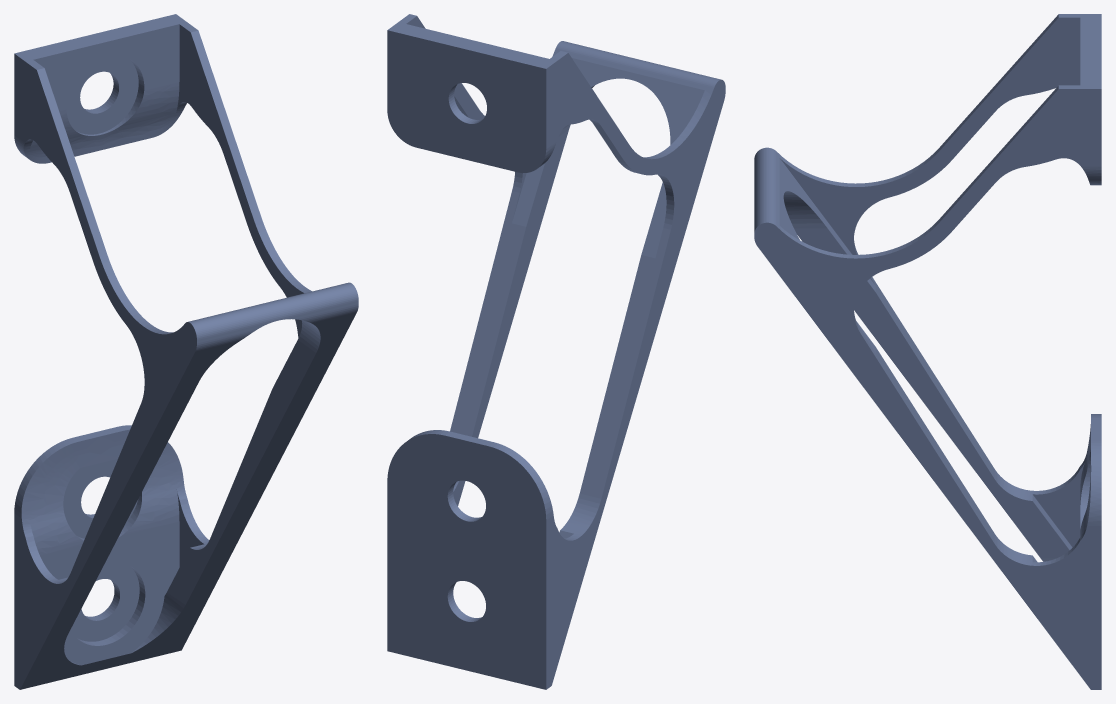
3 views of the same model, side by side, from view 1: azimuth 30°, elevation 25°; view 2: azimuth 150°, elevation 25°; view 3: azimuth 270°, elevation 25° (orthographic). The views are drawn at different scales.
Visible parts, largest first — view 1: cw3-v2; view 2: cw3-v2; view 3: cw3-v2.
Part boxes in pixels (x1=…): cw3-v2: x1=14, y1=14, x2=358, y2=689; cw3-v2: x1=387, y1=14, x2=725, y2=689; cw3-v2: x1=754, y1=14, x2=1101, y2=689.
Size of the model in its own units: 0.0414 by 0.1547 by 0.081.
